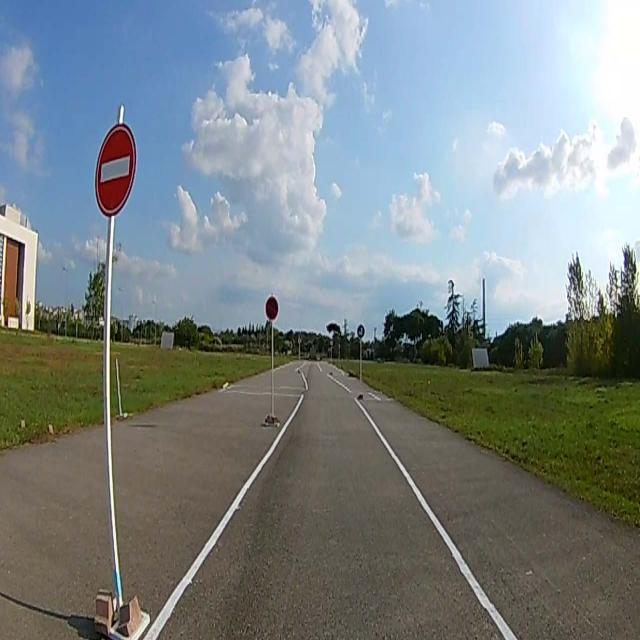girisyok: (94, 124, 136, 216)
